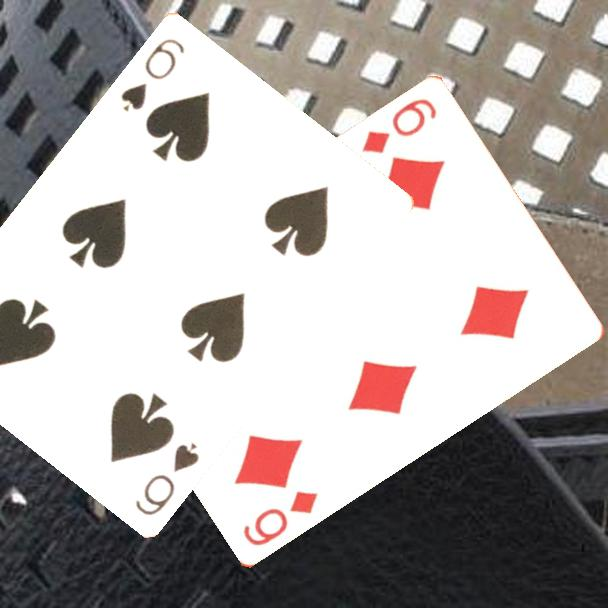d06: (358, 95, 440, 158), (239, 488, 321, 550)
s06: (117, 34, 188, 114), (132, 438, 202, 518)
